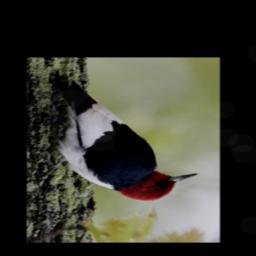Woodpecker: (42, 72, 206, 203)
